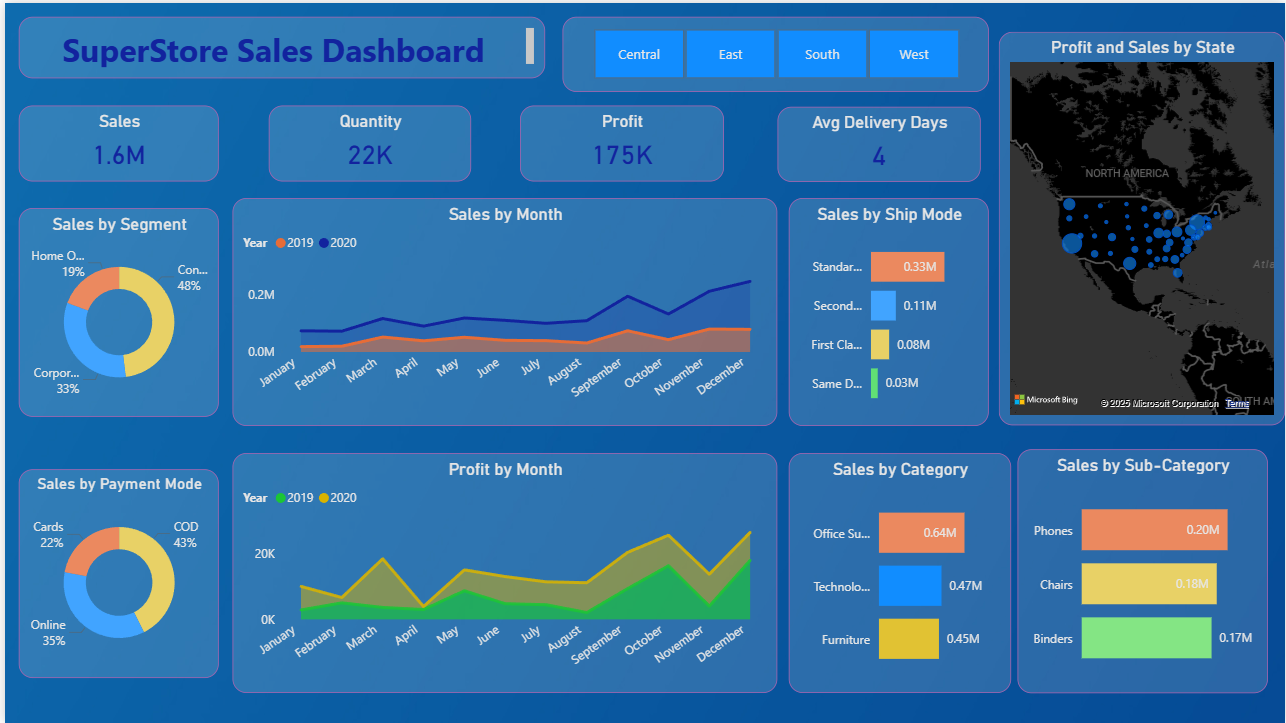

The page's visual inventory and layout, read from the dashboard file:
{"tool":"powerbi","page":{"name":"Dashboard","canvas":[1280,720],"ordinal":0},"visuals":[{"type":"clusteredBarChart","title":"Sales by Category","fields":{"Category":["SuperStore_Sales_Dataset.Category"],"Y":["Sum(SuperStore_Sales_Dataset.Sales)"]},"box":[783.5,450.1,222.3,240.1],"z":0},{"type":"clusteredBarChart","title":"Sales by Sub-Category","fields":{"Category":["SuperStore_Sales_Dataset.Sub-Category"],"Y":["Sum(SuperStore_Sales_Dataset.Sales)"]},"box":[1012.5,446.2,250,243.8],"z":1000},{"type":"clusteredBarChart","title":"Sales by Ship Mode","fields":{"Category":["SuperStore_Sales_Dataset.Ship Mode"],"Y":["Sum(SuperStore_Sales_Dataset.Sales)"]},"box":[783.5,194.9,200.3,227.8],"z":2000},{"type":"stackedAreaChart","title":" Sales by Month ","fields":{"Y":["Sum(SuperStore_Sales_Dataset.Sales)"],"Category":["SuperStore_Sales_Dataset.Order Date.Variation.Date Hierarchy.Month","SuperStore_Sales_Dataset.Order Date.Variation.Date Hierarchy.Day"],"Series":["SuperStore_Sales_Dataset.Order Date.Variation.Date Hierarchy.Year"]},"box":[227.8,194.9,544.8,227.8],"z":3000},{"type":"stackedAreaChart","title":"Profit by Month","fields":{"Category":["SuperStore_Sales_Dataset.Order Date.Variation.Date Hierarchy.Month","SuperStore_Sales_Dataset.Order Date.Variation.Date Hierarchy.Day"],"Series":["SuperStore_Sales_Dataset.Order Date.Variation.Date Hierarchy.Year"],"Y":["Sum(SuperStore_Sales_Dataset.Profit)"]},"box":[227.8,450.1,544.8,240.1],"z":4000},{"type":"map","title":"Profit and Sales by State","fields":{"Category":["SuperStore_Sales_Dataset.State"],"Size":["Sum(SuperStore_Sales_Dataset.Sales)"]},"box":[993.5,28.8,286.8,393.8],"z":5000},{"type":"donutChart","title":" Sales by Segment","fields":{"Category":["SuperStore_Sales_Dataset.Segment"],"Y":["Sum(SuperStore_Sales_Dataset.Sales)"]},"box":[13.7,204.5,200.3,208.6],"z":6000},{"type":"donutChart","title":" Sales by Payment Mode","fields":{"Category":["SuperStore_Sales_Dataset.Payment Mode"],"Y":["Sum(SuperStore_Sales_Dataset.Sales)"]},"box":[13.7,466.6,200.3,208.6],"z":7000},{"type":"slicer","fields":{"Values":["SuperStore_Sales_Dataset.Region"]},"box":[557.5,13.8,426.2,75],"z":8000},{"type":"textbox","box":[13.8,13.8,526.2,61.2],"z":9000},{"type":"card","title":"Sales","fields":{"Values":["Sum(SuperStore_Sales_Dataset.Sales)"]},"box":[13.8,102.5,200,76.2],"z":10000},{"type":"card","title":"Quantity","fields":{"Values":["Sum(SuperStore_Sales_Dataset.Quantity)"]},"box":[263.8,102.5,202.5,76.2],"z":11000},{"type":"card","title":"Profit","fields":{"Values":["Sum(SuperStore_Sales_Dataset.Profit)"]},"box":[515,102.5,203.8,76.2],"z":12000},{"type":"card","title":"Avg Delivery Days","fields":{"Values":["Avg(SuperStore_Sales_Dataset.AvgDelivery)"]},"box":[772.6,104.3,203.1,75.5],"z":13000}]}

Visuals, with their boxes in screenshot pixels (x1, y1, x2, y2), scaled from the page's 1280x720 canvas onto the 1286x723 screenshot:
"Sales by Category" clusteredBarChart: (left=787, top=452, right=1011, bottom=693)
"Sales by Sub-Category" clusteredBarChart: (left=1017, top=448, right=1268, bottom=693)
"Sales by Ship Mode" clusteredBarChart: (left=787, top=196, right=988, bottom=424)
" Sales by Month " stackedAreaChart: (left=229, top=196, right=776, bottom=424)
"Profit by Month" stackedAreaChart: (left=229, top=452, right=776, bottom=693)
"Profit and Sales by State" map: (left=998, top=29, right=1285, bottom=424)
" Sales by Segment" donutChart: (left=14, top=205, right=215, bottom=415)
" Sales by Payment Mode" donutChart: (left=14, top=469, right=215, bottom=678)
slicer - SuperStore_Sales_Dataset.Region: (left=560, top=14, right=988, bottom=89)
textbox: (left=14, top=14, right=543, bottom=75)
"Sales" card: (left=14, top=103, right=215, bottom=179)
"Quantity" card: (left=265, top=103, right=468, bottom=179)
"Profit" card: (left=517, top=103, right=722, bottom=179)
"Avg Delivery Days" card: (left=776, top=105, right=980, bottom=181)
